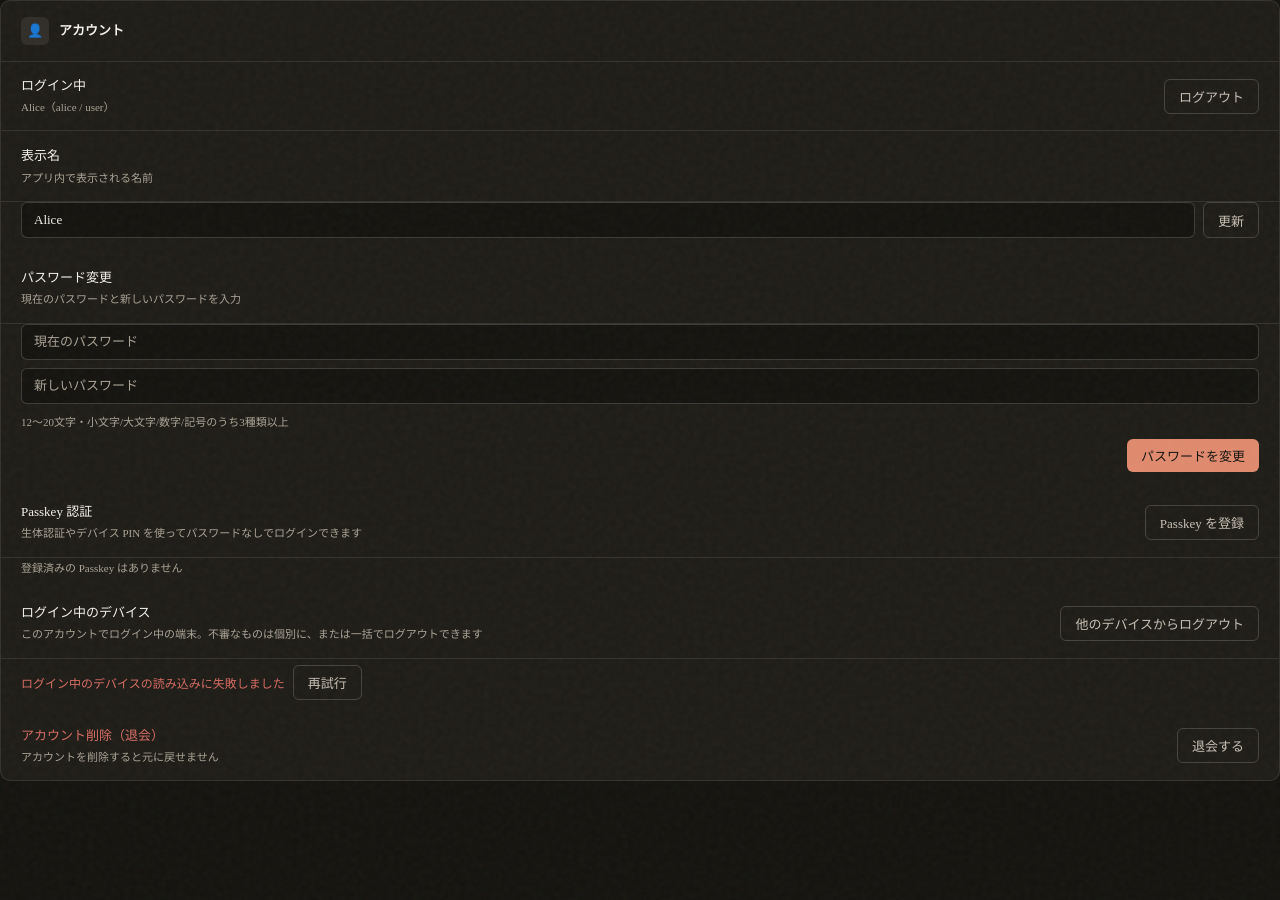
Test: AccountSection — ログイン中デバイス一覧の読み込み失敗（issue #164） › 再試行ボタンをクリックすると getSessions を再度呼び、成功すれば一覧を表示する
The image size is (1280, 900).
Click the button with aria-label "ログイン中のデバイスを再試行": click(327, 682) [293,665,362,700]
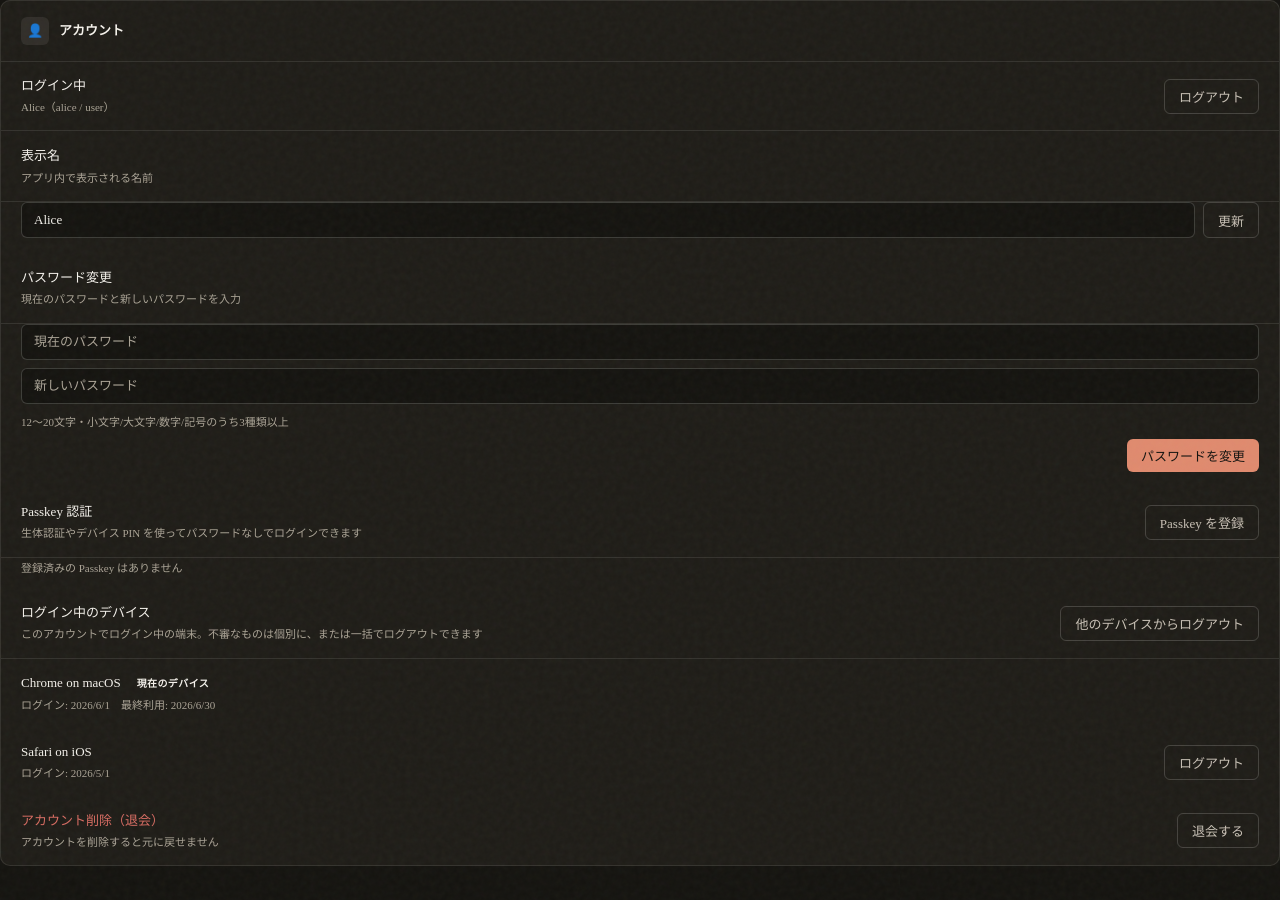
Check: the text "Chrome on macOS" is shown, box [21,675,121,690]
Check: the text "ログイン中のデバイスの読み込みに失敗しました" is gone
